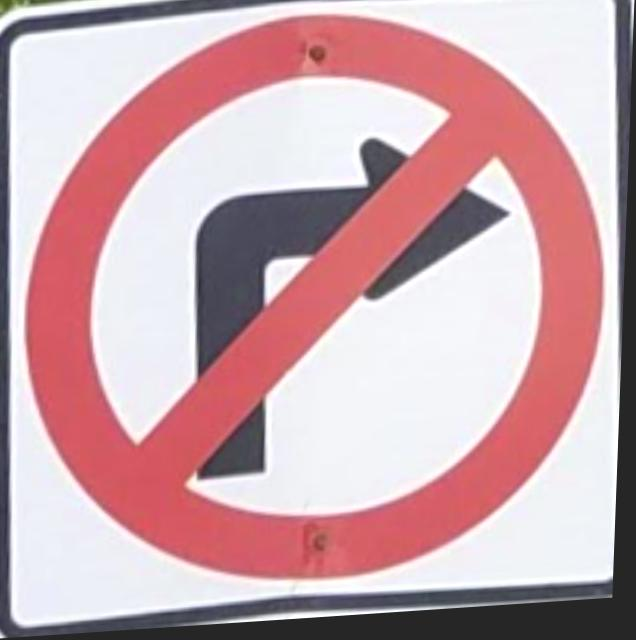not_turn_right: (28, 0, 616, 598)
